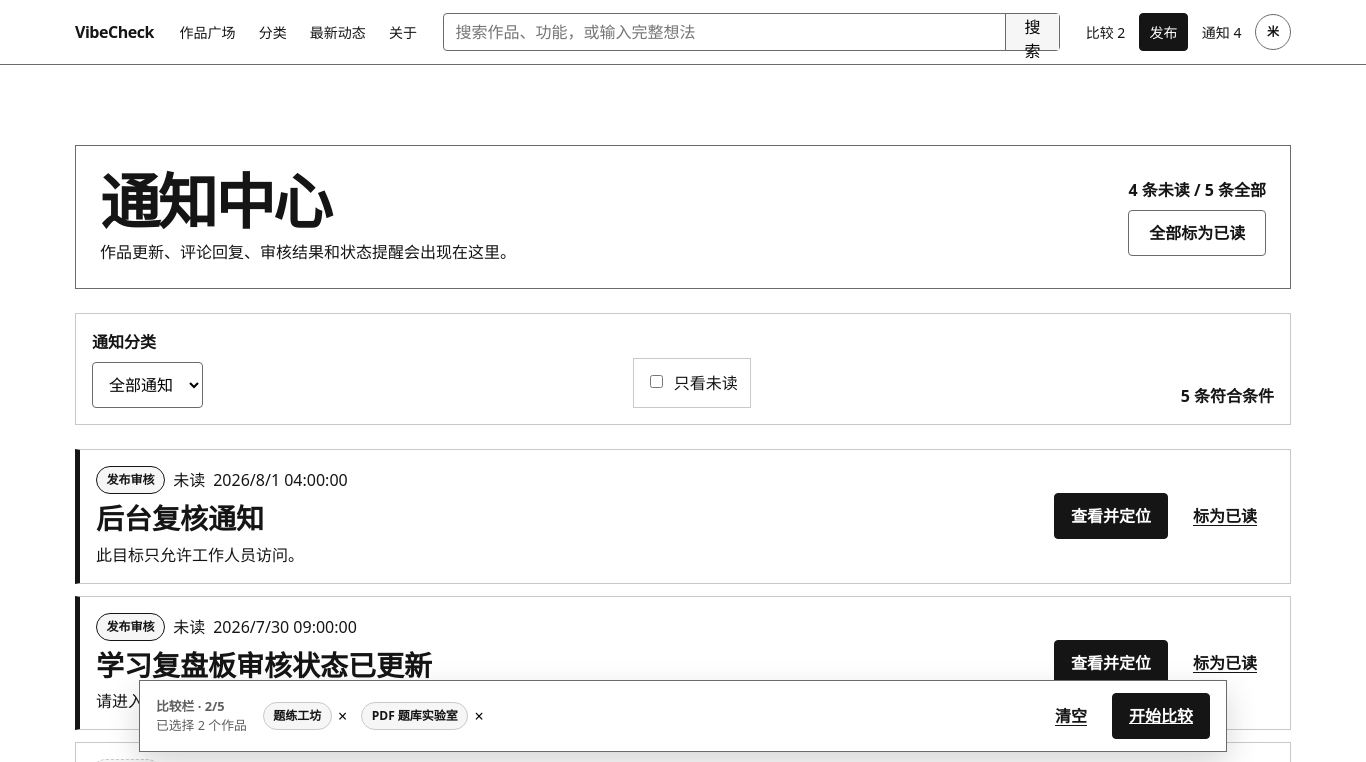
Scenario: NotificationsPage › explains a restricted target, stays in place, and records it as read
The width and height of the screenshot is (1366, 762).
Click the button "查看并定位" in the row of "后台复核通知" at (1111, 516), box [1054,494,1168,540]
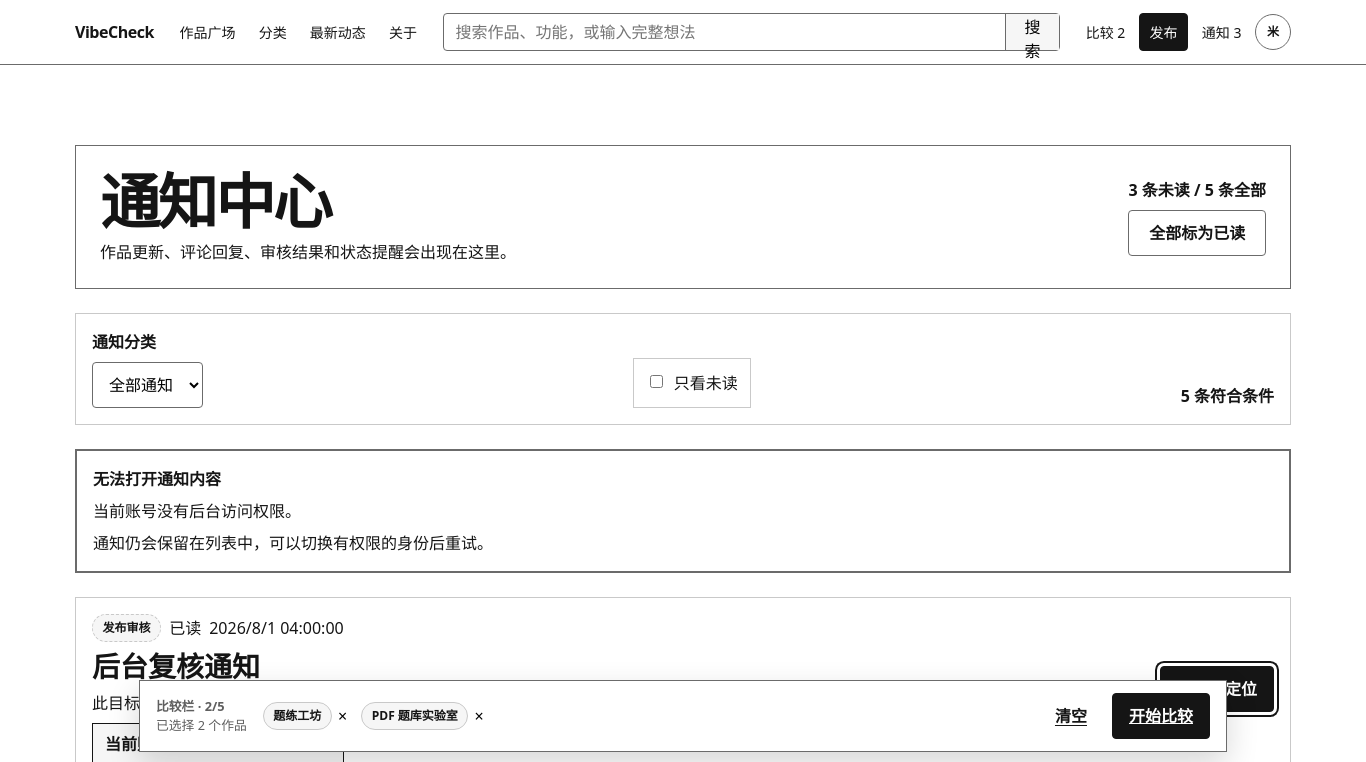
Check: the message shows "当前账号没有后台访问权限", box [93,500,301,522]
Check: the text "已读" is shown, box [169,616,201,640]
